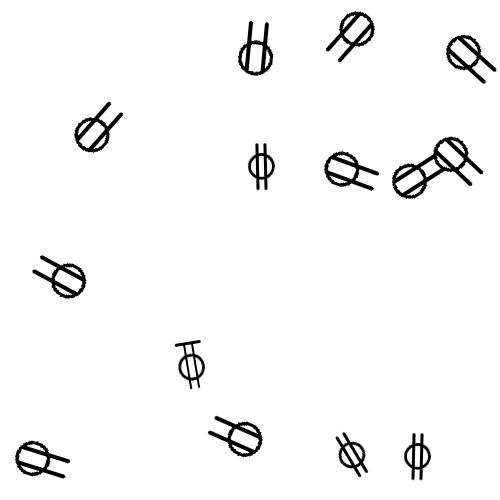Duplex-Receptacle: (322, 17, 381, 53), (440, 40, 499, 76), (11, 443, 70, 479), (427, 142, 486, 178), (320, 154, 379, 190), (227, 32, 286, 68), (68, 111, 127, 147), (32, 259, 91, 295), (387, 159, 446, 195), (208, 418, 267, 454), (166, 349, 218, 382), (324, 439, 377, 470), (392, 442, 445, 473), (236, 152, 289, 183)
